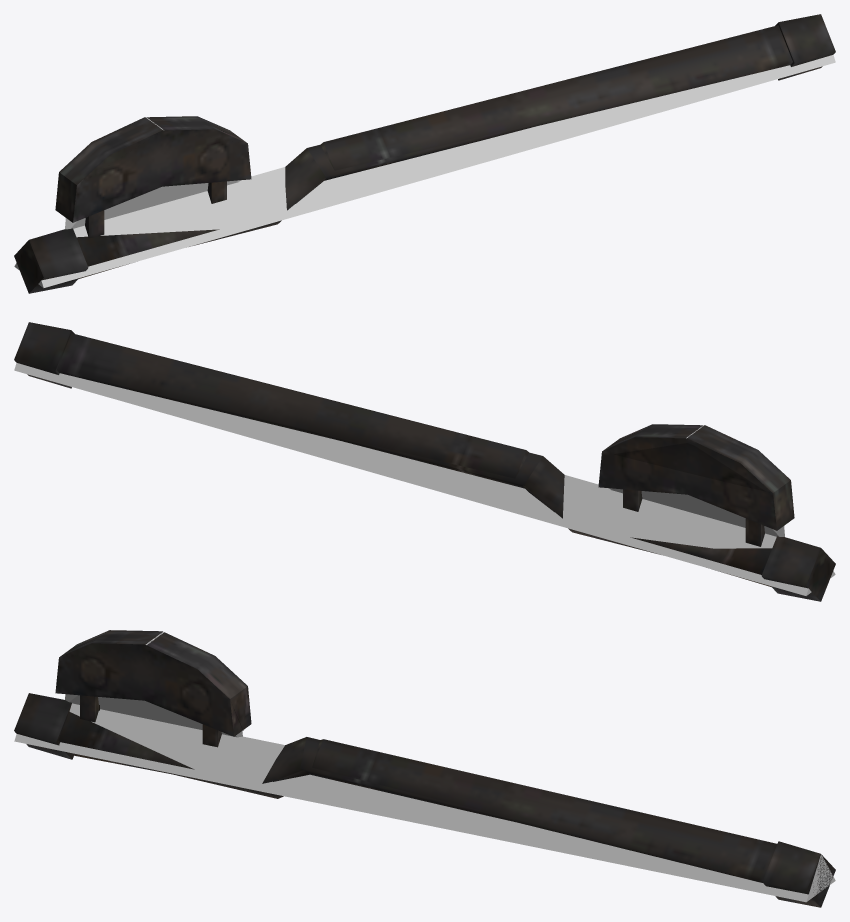
3 renders of one model, top to bottom at view 1: azimuth 30°, elevation 25°; view 2: azimuth 150°, elevation 25°; view 3: azimuth 330°, elevation 25°, orthographic.
Visible parts, largest first — view 1: surface_000, surface_001, surface_002; view 2: surface_002, surface_001, surface_000; view 3: surface_002, surface_001, surface_000.
Boxes of the visible parts, x1,y1,x2,y2 form: surface_000: (14,14,835,293); surface_001: (14,55,835,287); surface_002: (29,17,835,293); surface_002: (14,323,820,601); surface_001: (14,363,835,595); surface_000: (14,322,835,601); surface_002: (14,632,835,907); surface_001: (14,631,835,902); surface_000: (14,630,820,907).
Bounding box in the file's own units: 86.77 × 14.85 × 6.13.
